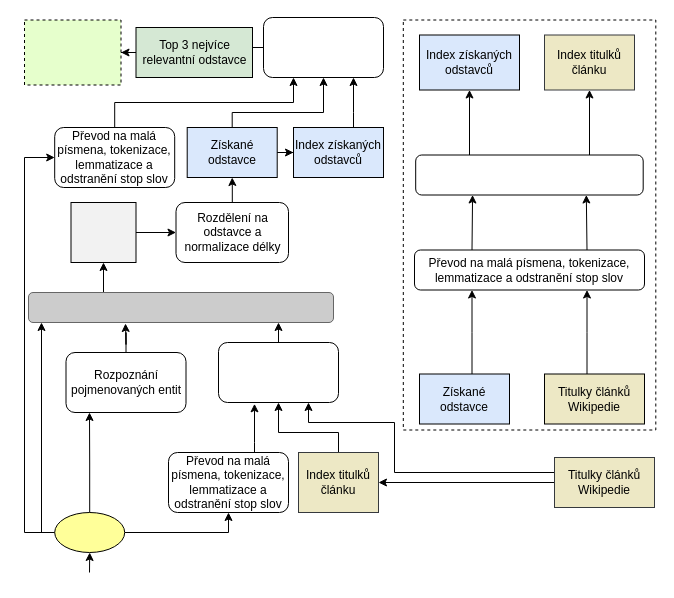
Image size: 674x598. Some labels were removed from this diagram. The box of each missing label's shape, as (x1, y1, x2, y2) in pixels:
Otázka: (54, 512, 125, 552)
Seřazení získaných odstavců (BM25): (262, 16, 384, 78)
Strojový překlad relevantních odstavců (volitelné): (24, 19, 121, 85)
Vytvoření indexu: (415, 154, 643, 195)
Wiki Search: (28, 292, 334, 322)
Získané články: (70, 202, 136, 262)
Získání relevantních titulků článků (BM25): (218, 342, 338, 402)
